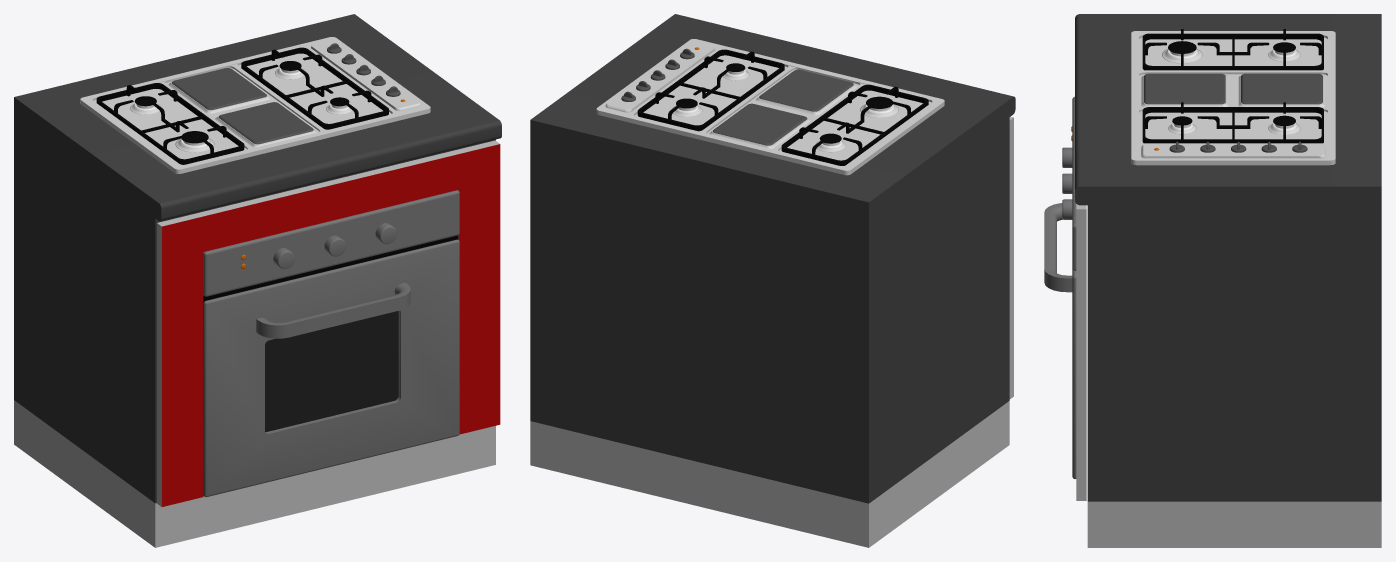
The model's file is cucina.obj.
The picture shows the model from 3 angles, left to right: view 1: azimuth 30°, elevation 25°; view 2: azimuth 150°, elevation 25°; view 3: azimuth 270°, elevation 25°; orthographic projection. The views are drawn at different scales.
Visible parts, largest first — view 1: Box10_2, ChamferBox02_7, Line0911_5, Line15_1, Box11_3, Box13_8, Rectangle02_16, Box12_10, ChamferBox01_6, Line09_4, Loft05_9, Rectangle08_56 (+5 smaller); view 2: Box10_2, Line15_1, Box11_3, Rectangle02_16, Rectangle08_56, Rectangle07_55, Rectangle01_17, Rectangle06_35, Rectangle04_18, Line09_4, Line49_53; view 3: Box10_2, Line15_1, Box11_3, Rectangle02_16, Line09_4, Rectangle07_55, Rectangle08_56, Rectangle01_17, Rectangle04_18, Rectangle06_35, Loft05_9, ChamferBox02_7 (+4 smaller).
Boxes of the visible parts, <box> form: Box10_2: <box>14,115,495,503</box>; ChamferBox02_7: <box>203,239,459,497</box>; Line0911_5: <box>162,144,500,506</box>; Line15_1: <box>14,14,501,221</box>; Box11_3: <box>14,400,495,547</box>; Box13_8: <box>203,235,458,496</box>; Rectangle02_16: <box>80,37,430,173</box>; Box12_10: <box>265,311,399,432</box>; ChamferBox01_6: <box>203,190,459,296</box>; Line09_4: <box>157,140,499,506</box>; Loft05_9: <box>256,282,410,338</box>; Rectangle08_56: <box>218,102,313,144</box>; Box10_2: <box>530,117,1009,503</box>; Line15_1: <box>530,14,1015,219</box>; Box11_3: <box>530,401,1009,547</box>; Rectangle02_16: <box>596,39,944,175</box>; Rectangle08_56: <box>759,69,853,111</box>; Rectangle07_55: <box>712,103,807,145</box>; Rectangle01_17: <box>605,42,715,112</box>; Rectangle06_35: <box>637,49,784,131</box>; Rectangle04_18: <box>781,84,928,165</box>; Line09_4: <box>1009,116,1013,399</box>; Line49_53: <box>699,65,798,133</box>; Box10_2: <box>1087,205,1381,501</box>; Line15_1: <box>1075,14,1381,205</box>; Box11_3: <box>1087,501,1381,547</box>; Rectangle02_16: <box>1131,31,1335,165</box>; Line09_4: <box>1076,204,1086,500</box>; Rectangle07_55: <box>1241,73,1322,104</box>; Rectangle08_56: <box>1144,73,1225,104</box>; Rectangle01_17: <box>1141,143,1325,158</box>; Rectangle04_18: <box>1142,33,1323,70</box>; Rectangle06_35: <box>1142,107,1323,143</box>; Loft05_9: <box>1044,203,1072,292</box>; ChamferBox02_7: <box>1072,268,1076,478</box>.
Bounding box in the file's own units: 80 × 81.1 × 66.01.
